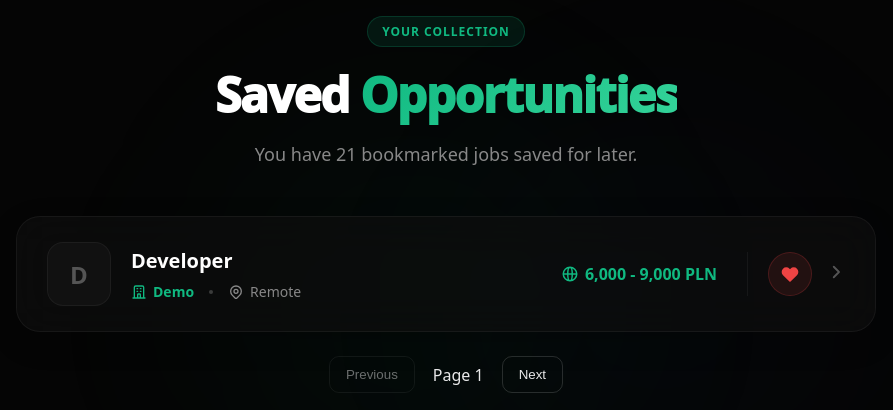
Test: loads the next page and returns the viewport to the list heading
The width and height of the screenshot is (893, 410).
Click the button "Next" at [532, 374], box 502,356 -> 563,393
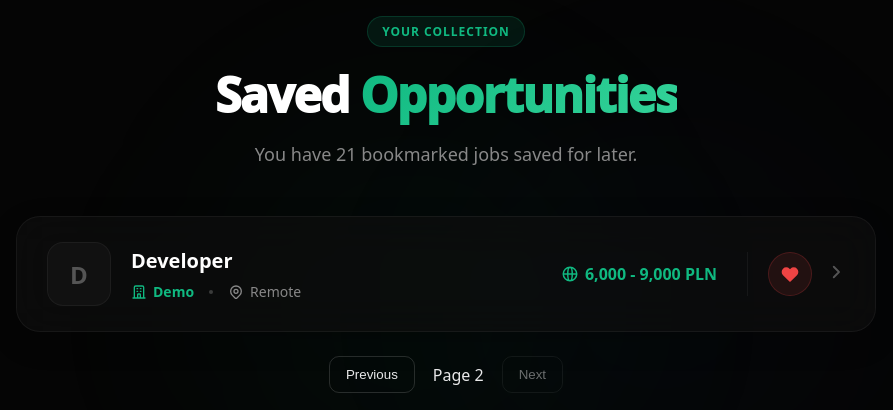
Expected: the text "Page 2" is shown, 433,364 -> 484,386
Expected: the button "Next" is disabled, 502,356 -> 563,393
